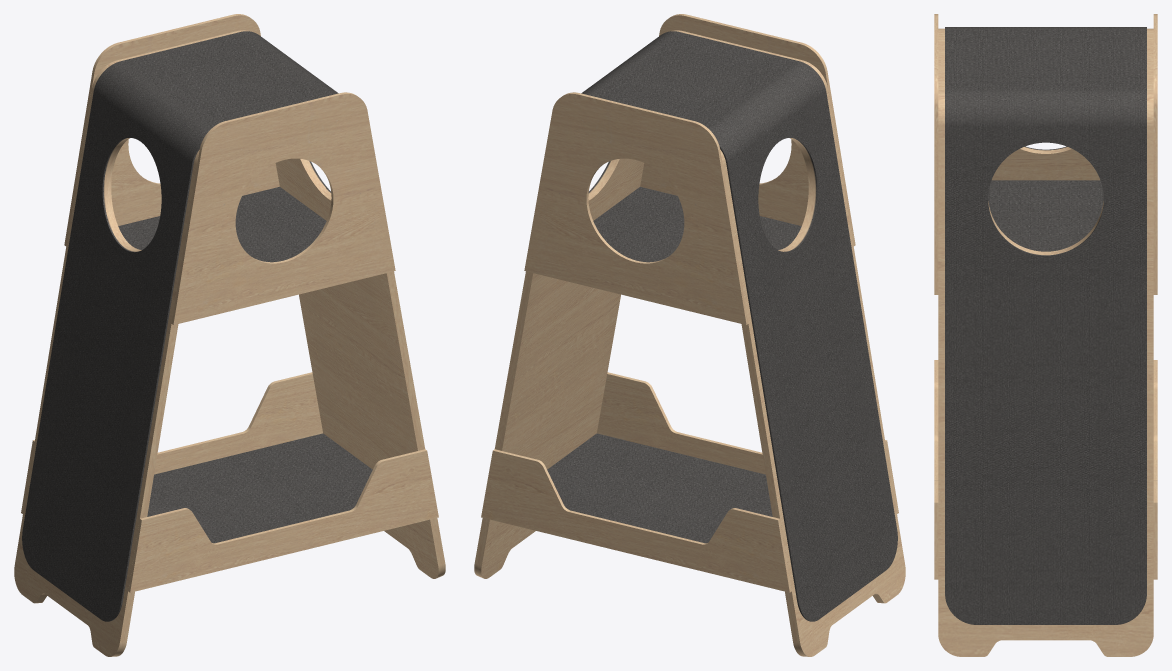
Rendered from Cat house2.fbx.
The picture shows the model from 3 angles, left to right: view 1: azimuth 30°, elevation 25°; view 2: azimuth 150°, elevation 25°; view 3: azimuth 270°, elevation 25°; orthographic projection. The views are drawn at different scales.
Parts seen in each view (by area): view 1: Cube.004; view 2: Cube.004; view 3: Cube.004.
Part boxes in pixels (left/top/right/bottom): Cube.004: left=14, top=14, right=445, bottom=656; Cube.004: left=474, top=14, right=905, bottom=656; Cube.004: left=934, top=14, right=1157, bottom=656.
Size of the model in its own units: 69.27 by 103 by 39.4.
Materials: 1 (1 with a texture image).
